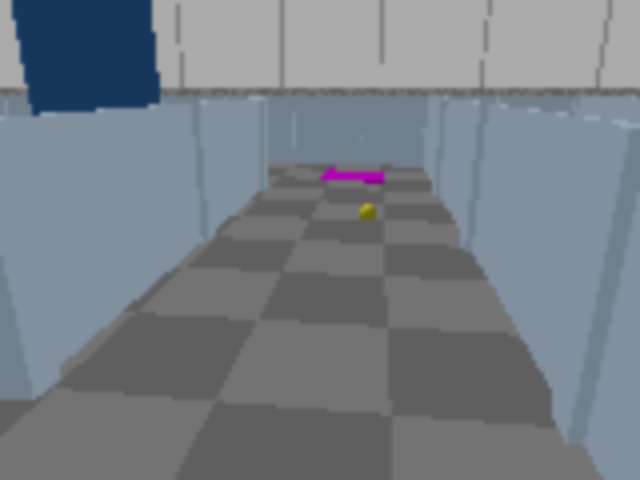goal_zone: (321, 170, 383, 182)
puck: (357, 202, 381, 225)
